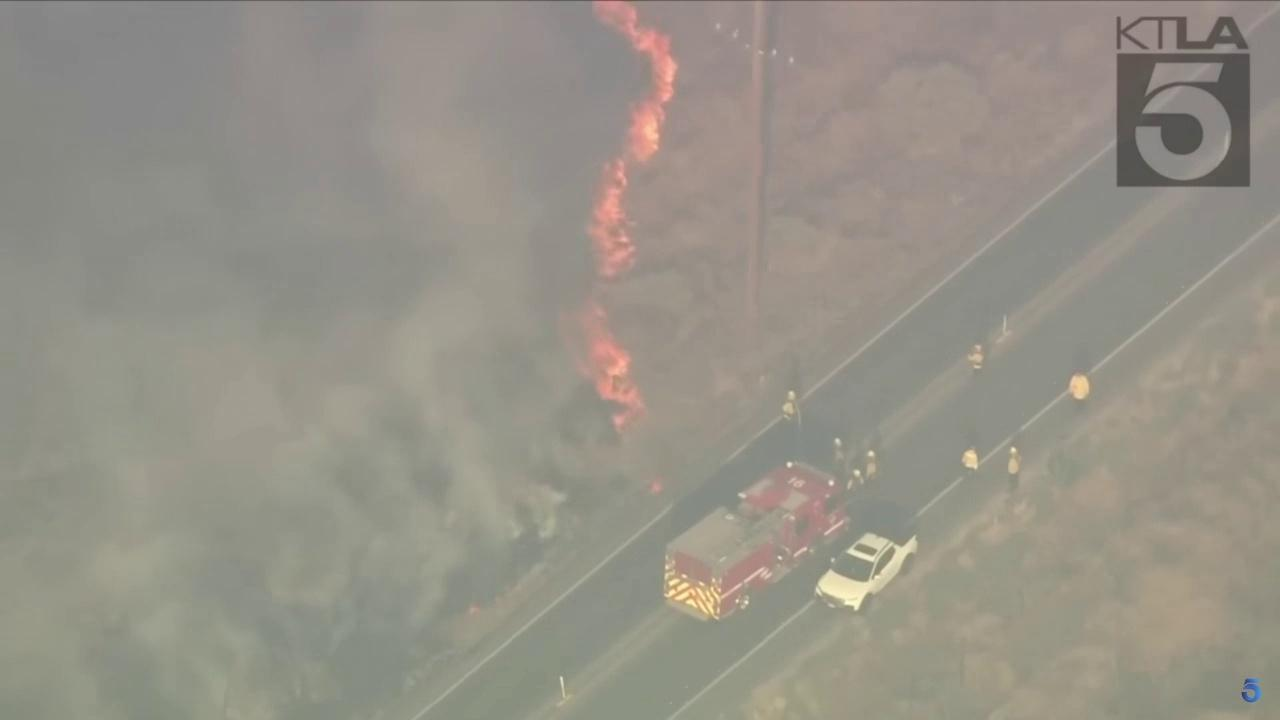fire: (577, 0, 680, 451), (651, 481, 665, 495)
smoke: (0, 0, 646, 720)
